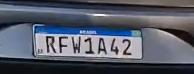Placa_mercosul_carro: (32, 23, 142, 59)
